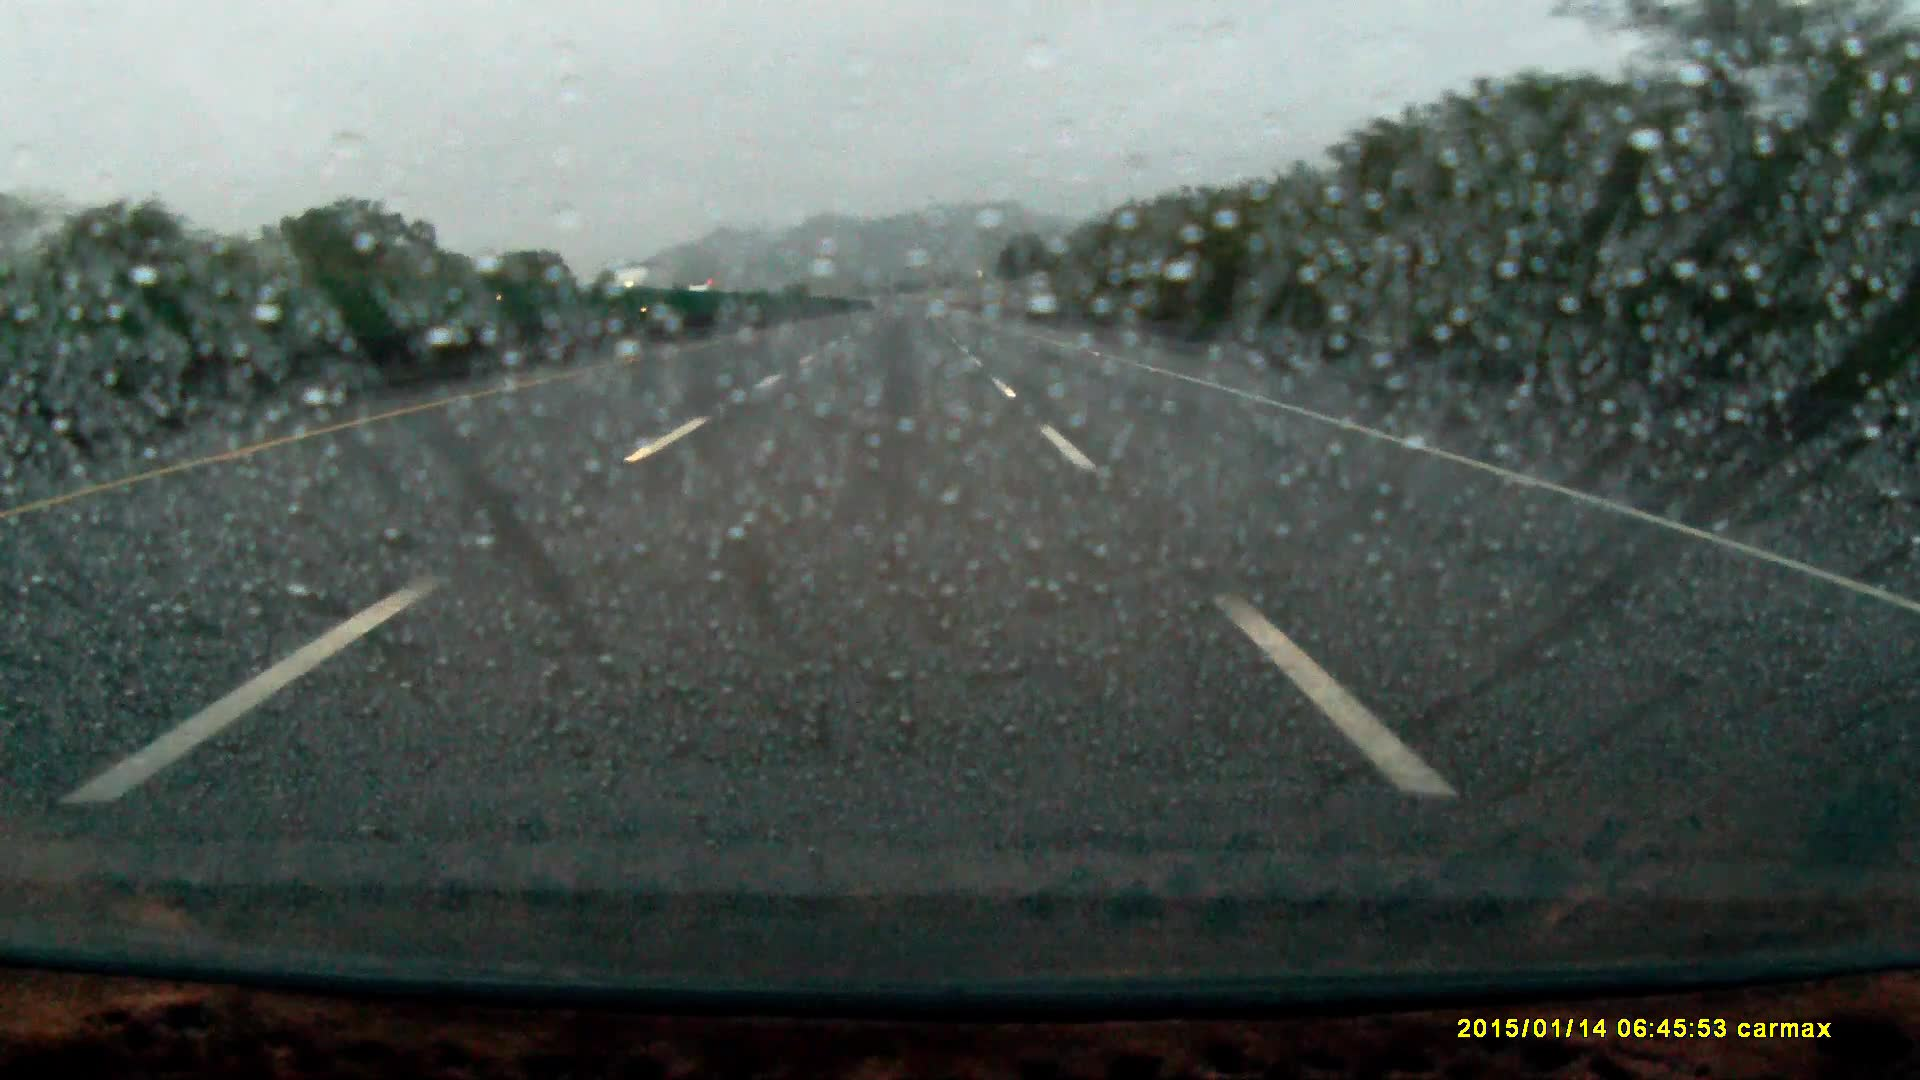vehicle: (688, 276, 717, 299)
